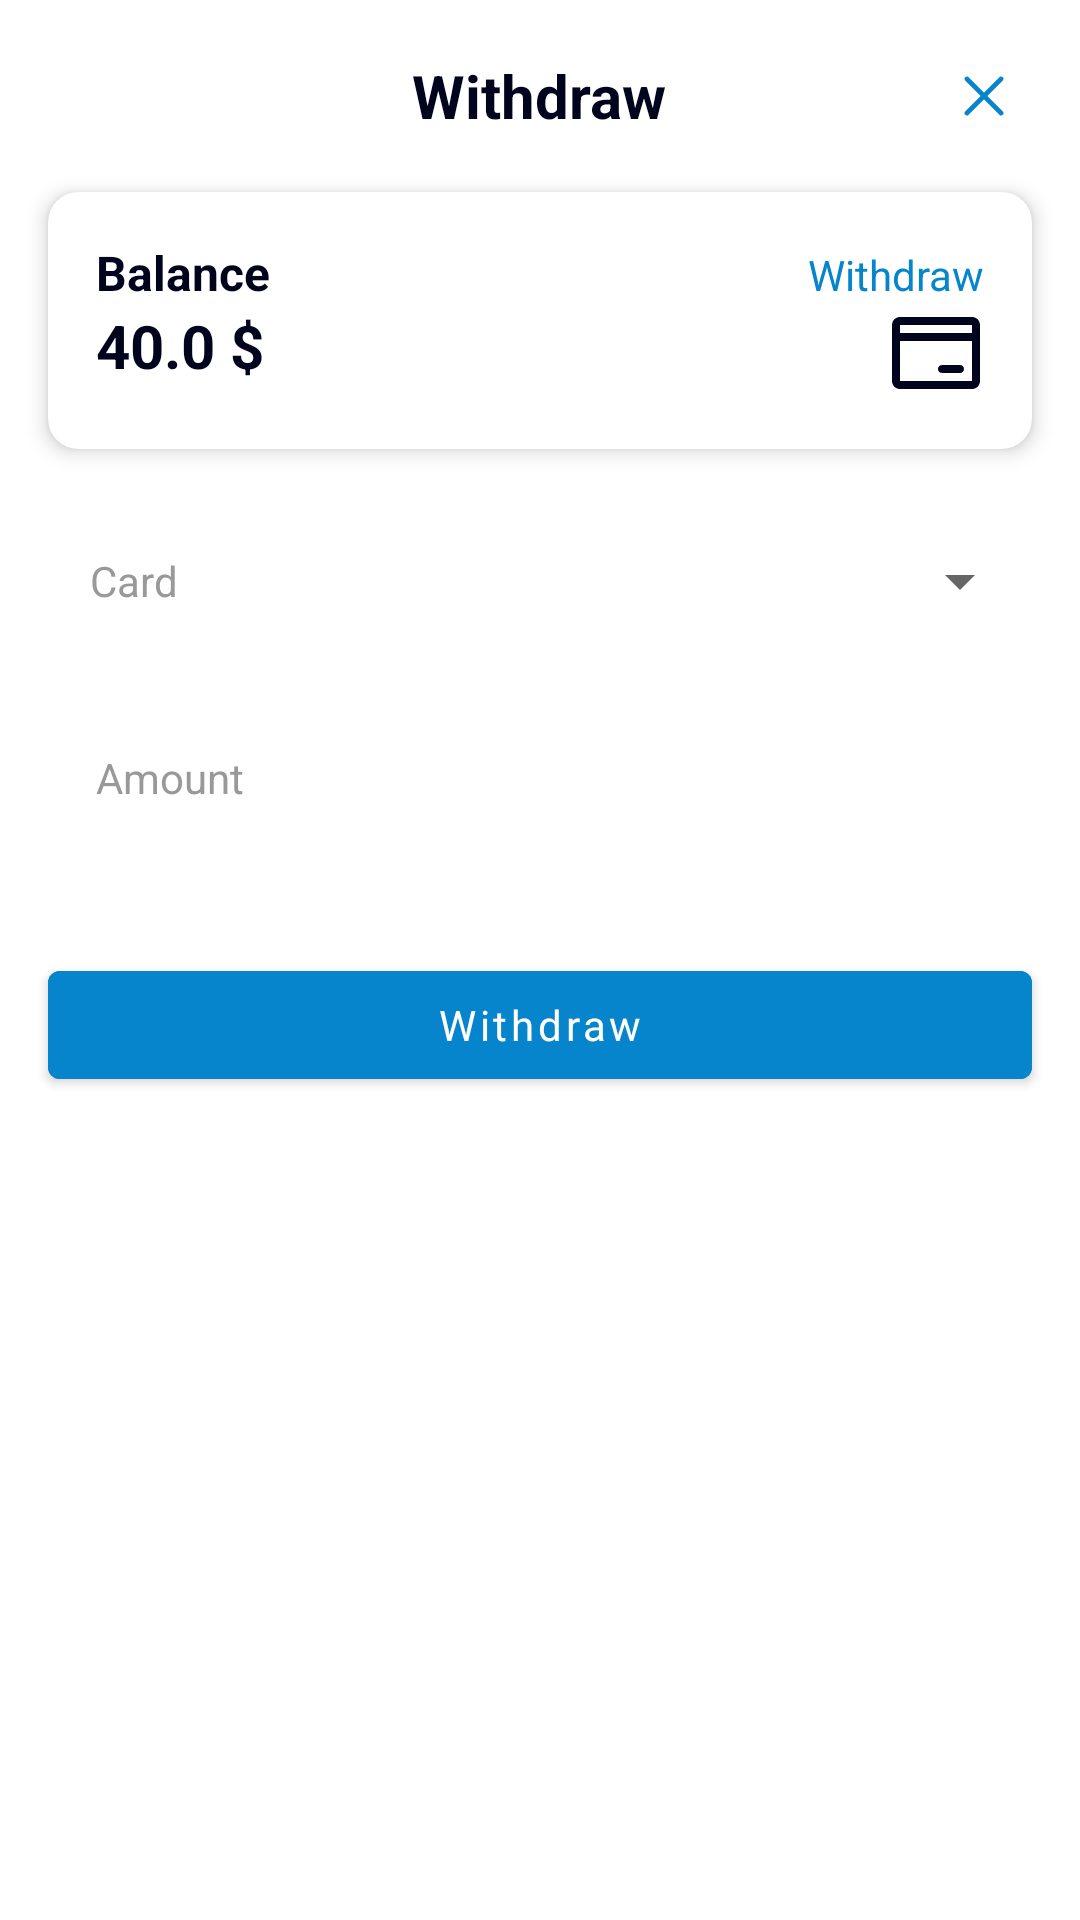

Named icons in this screenshot (1080px×1920px) and their bounding boxes, (x1, y1, x2, y2):
card: (892, 317, 980, 389)
close: (964, 76, 1004, 116)
